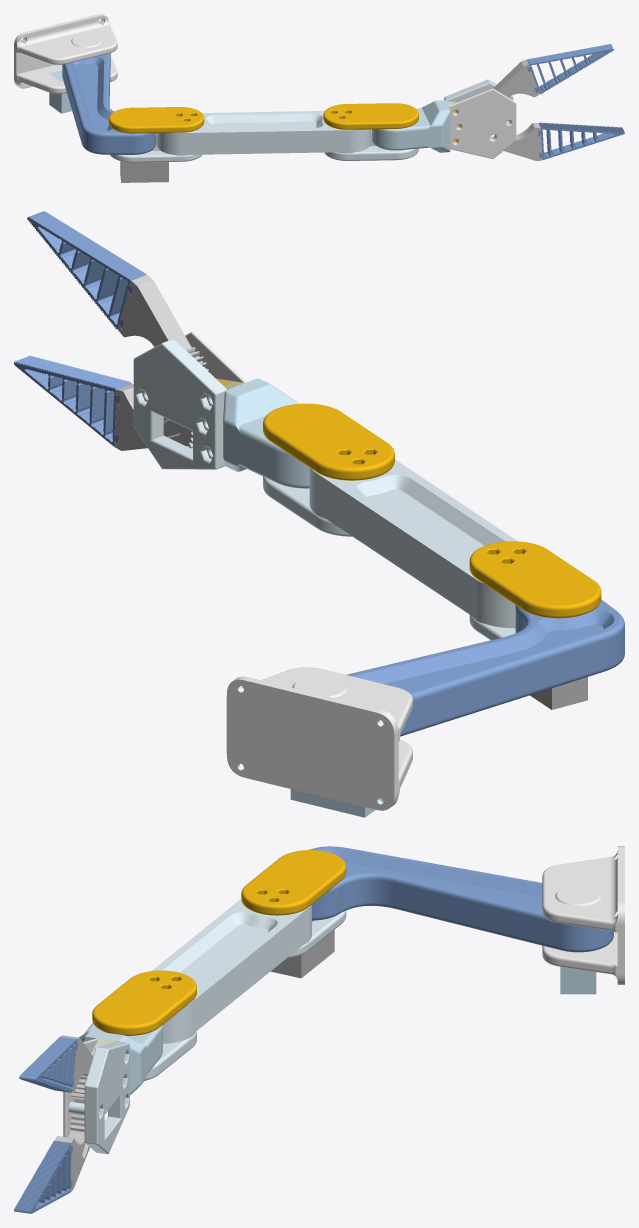
File: arm.gltf
3 views of the same model, one above another, from view 1: azimuth 30°, elevation 25°; view 2: azimuth 150°, elevation 25°; view 3: azimuth 270°, elevation 25° (orthographic). The views are drawn at different scales.
Visible parts, largest first — view 1: arm_2, Part 6 (×2), Part 5 (×2), arm_1, arm_3, Part 4, Part 8, greifer_1, greifer_2, Part 1 (×2), m, Part 7; view 2: Part 6 (×2), arm_2, arm_1, Part 4, Part 8, arm_3, greifer_2, greifer_1, Part 1 (×2), Part 5 (×2), m, Part 7; view 3: arm_1, arm_2, Part 6 (×2), Part 4, Part 8, greifer_1, greifer_2, arm_3, Part 1 (×2), Part 5, m, Part 7.
Part boxes in pixels (x1,y1,x2,y2): arm_2: [110, 111, 418, 162]; Part 6 (×2): [14, 14, 513, 137]; Part 5 (×2): [120, 88, 516, 182]; arm_1: [62, 53, 156, 154]; arm_3: [371, 100, 461, 152]; Part 4: [108, 107, 204, 133]; Part 8: [323, 103, 418, 129]; greifer_1: [538, 122, 624, 159]; greifer_2: [527, 44, 613, 94]; Part 1 (×2): [49, 59, 539, 113]; m: [490, 123, 542, 160]; Part 7: [71, 34, 101, 47]; Part 6 (×2): [133, 339, 412, 810]; arm_2: [263, 459, 517, 640]; arm_1: [346, 599, 624, 736]; Part 4: [469, 541, 601, 618]; Part 8: [263, 403, 394, 480]; arm_3: [219, 378, 309, 488]; greifer_2: [27, 211, 146, 329]; greifer_1: [14, 355, 131, 446]; Part 1 (×2): [118, 274, 383, 817]; Part 5 (×2): [185, 331, 587, 709]; m: [114, 384, 192, 450]; Part 7: [292, 675, 347, 697]; arm_1: [309, 846, 613, 952]; arm_2: [144, 899, 346, 1080]; Part 6 (×2): [68, 846, 624, 1154]; Part 4: [241, 850, 346, 915]; Part 8: [92, 970, 196, 1035]; greifer_1: [14, 1140, 72, 1213]; greifer_2: [19, 1036, 77, 1092]; arm_3: [79, 1023, 162, 1094]; Part 1 (×2): [60, 967, 596, 1102]; Part 5: [270, 920, 334, 978]; m: [54, 1101, 89, 1191]; Part 7: [555, 886, 601, 905].
Bounding box in the file's own units: 0.4218 × 0.098 × 0.341.
